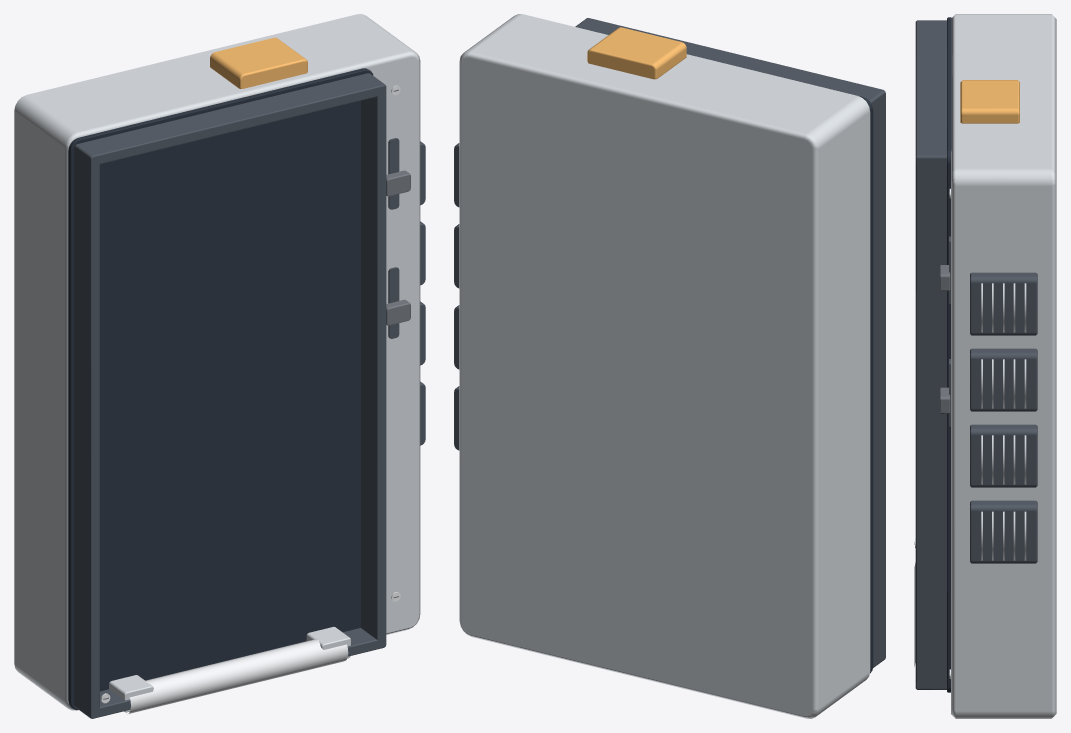
File: cassette-player.glb
3 renders of one model, left to right at view 1: azimuth 30°, elevation 25°; view 2: azimuth 150°, elevation 25°; view 3: azimuth 270°, elevation 25°, orthographic. The views are drawn at different scales.
Visible parts, largest first — view 1: rubber, silver, dark, chrome, orange, ink; view 2: silver, dark, orange, rubber; view 3: silver, dark, orange, rubber, ink, chrome.
Part boxes in pixels (x1,y1,x2,y2): rubber: (68,68,373,710); silver: (14,14,420,712); dark: (74,73,425,718); chrome: (101,85,400,714); orange: (210,37,307,88); ink: (103,89,410,699); silver: (459,14,870,718); dark: (454,18,885,667); orange: (587,27,686,79); rubber: (576,27,873,673); silver: (951,14,1056,718); dark: (915,20,1037,689); orange: (960,80,1019,123); rubber: (947,17,951,692); ink: (914,192,950,675); chrome: (914,188,950,678).
Bounding box in the file's own units: 150 × 230 × 52.5.
